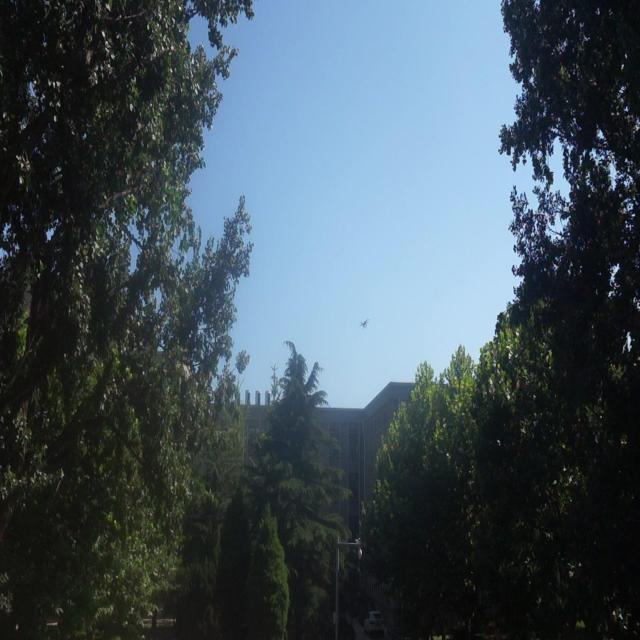drone: (357, 316, 371, 332)
